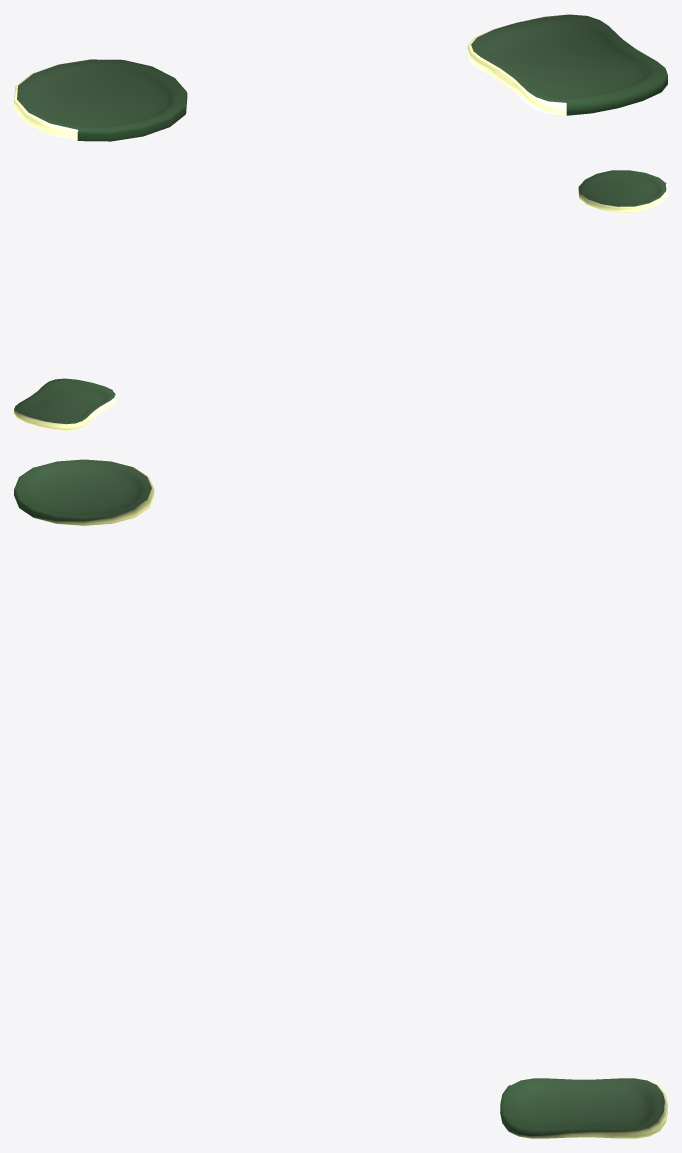
The model's file is ascensores.glb.
3 renders of one model, top to bottom at view 1: azimuth 30°, elevation 25°; view 2: azimuth 150°, elevation 25°; view 3: azimuth 270°, elevation 25°, orthographic. The views are drawn at different scales.
Visible parts, largest first — view 1: ascensor 1, ascensor 2; view 2: ascensor 1, ascensor 2; view 3: ascensor 1, ascensor 2.
Boxes of the visible parts, x1=… form: ascensor 1: x1=467, y1=14, x2=667, y2=115; ascensor 2: x1=14, y1=59, x2=187, y2=141; ascensor 1: x1=14, y1=378, x2=117, y2=430; ascensor 2: x1=578, y1=170, x2=667, y2=212; ascensor 1: x1=500, y1=1078, x2=667, y2=1138; ascensor 2: x1=14, y1=459, x2=154, y2=525.
Bounding box in the file's own units: 15.17 × 6.2 × 11.52.
1 material, 1 textured.
